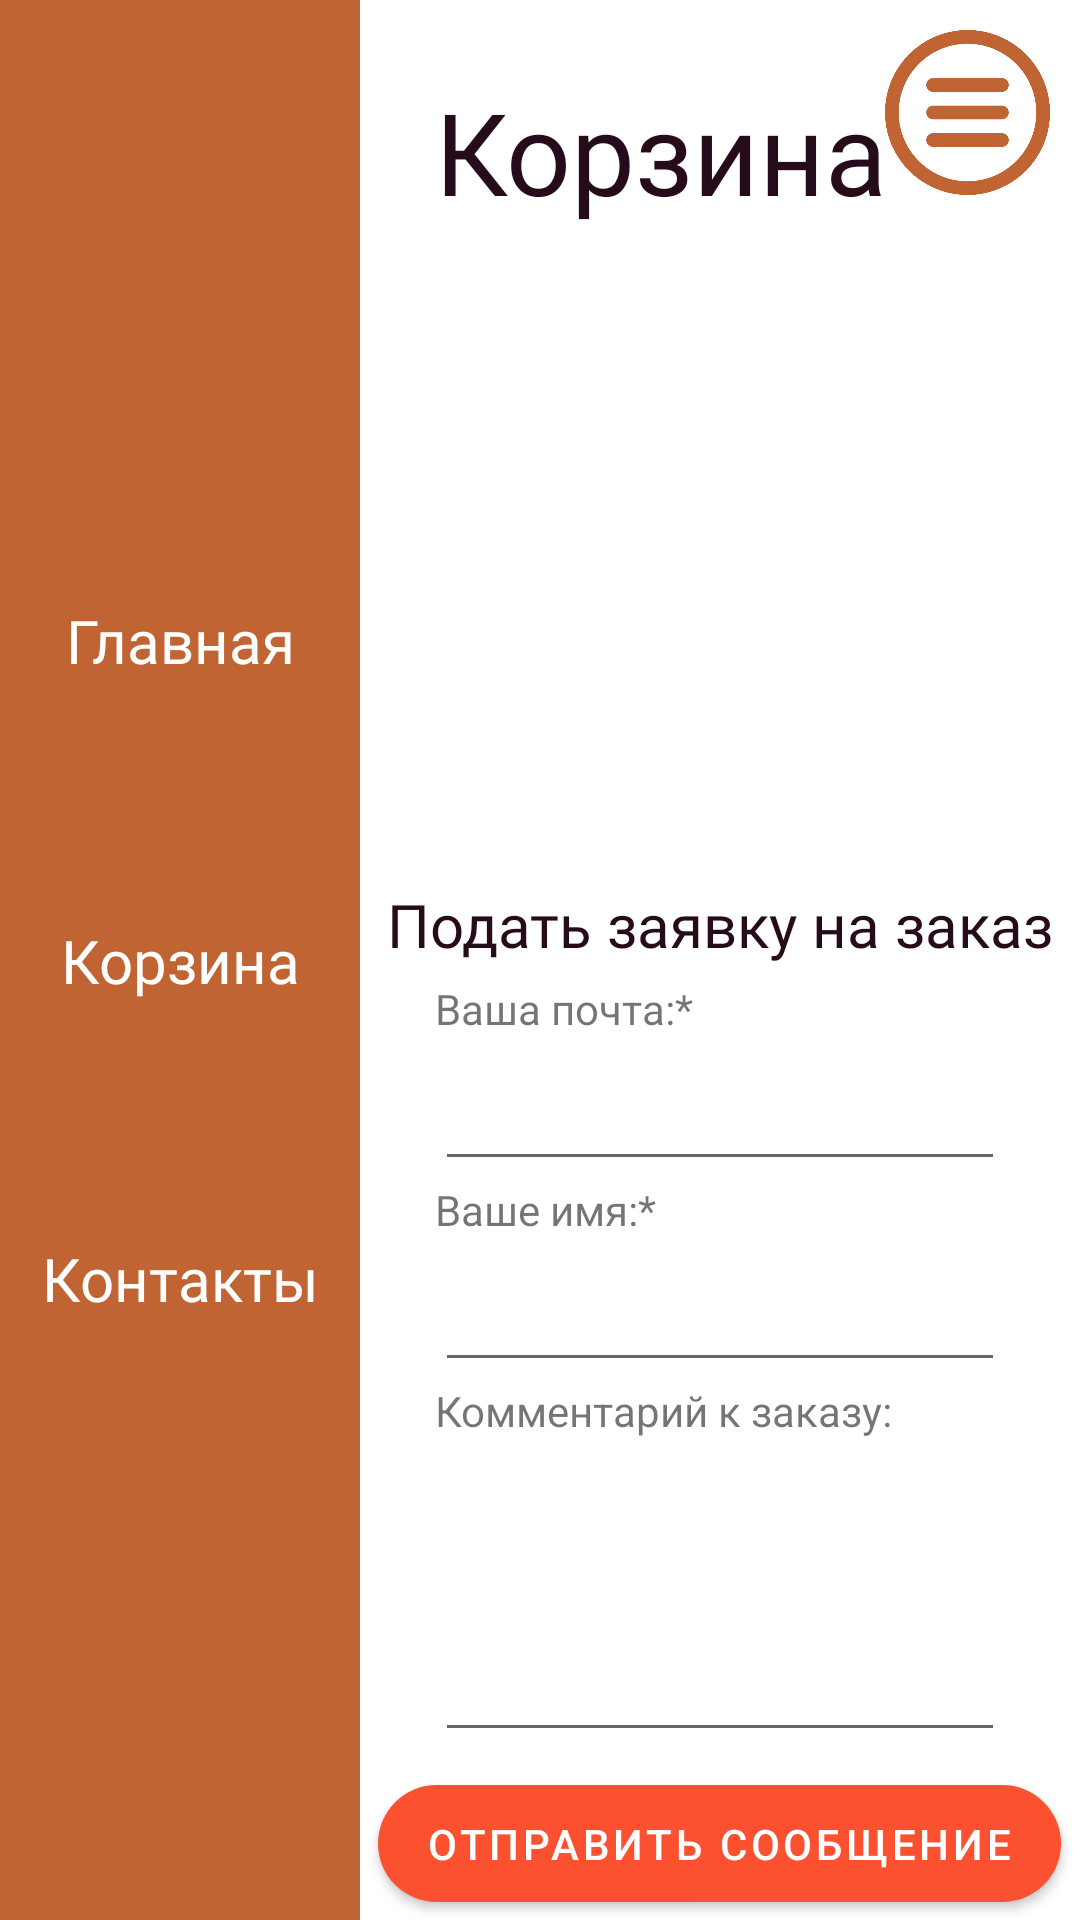

Where icons sit on this 1080w x 1920h app screen, as (x1, y1, x2, y2):
menu: (885, 30, 1050, 195)
